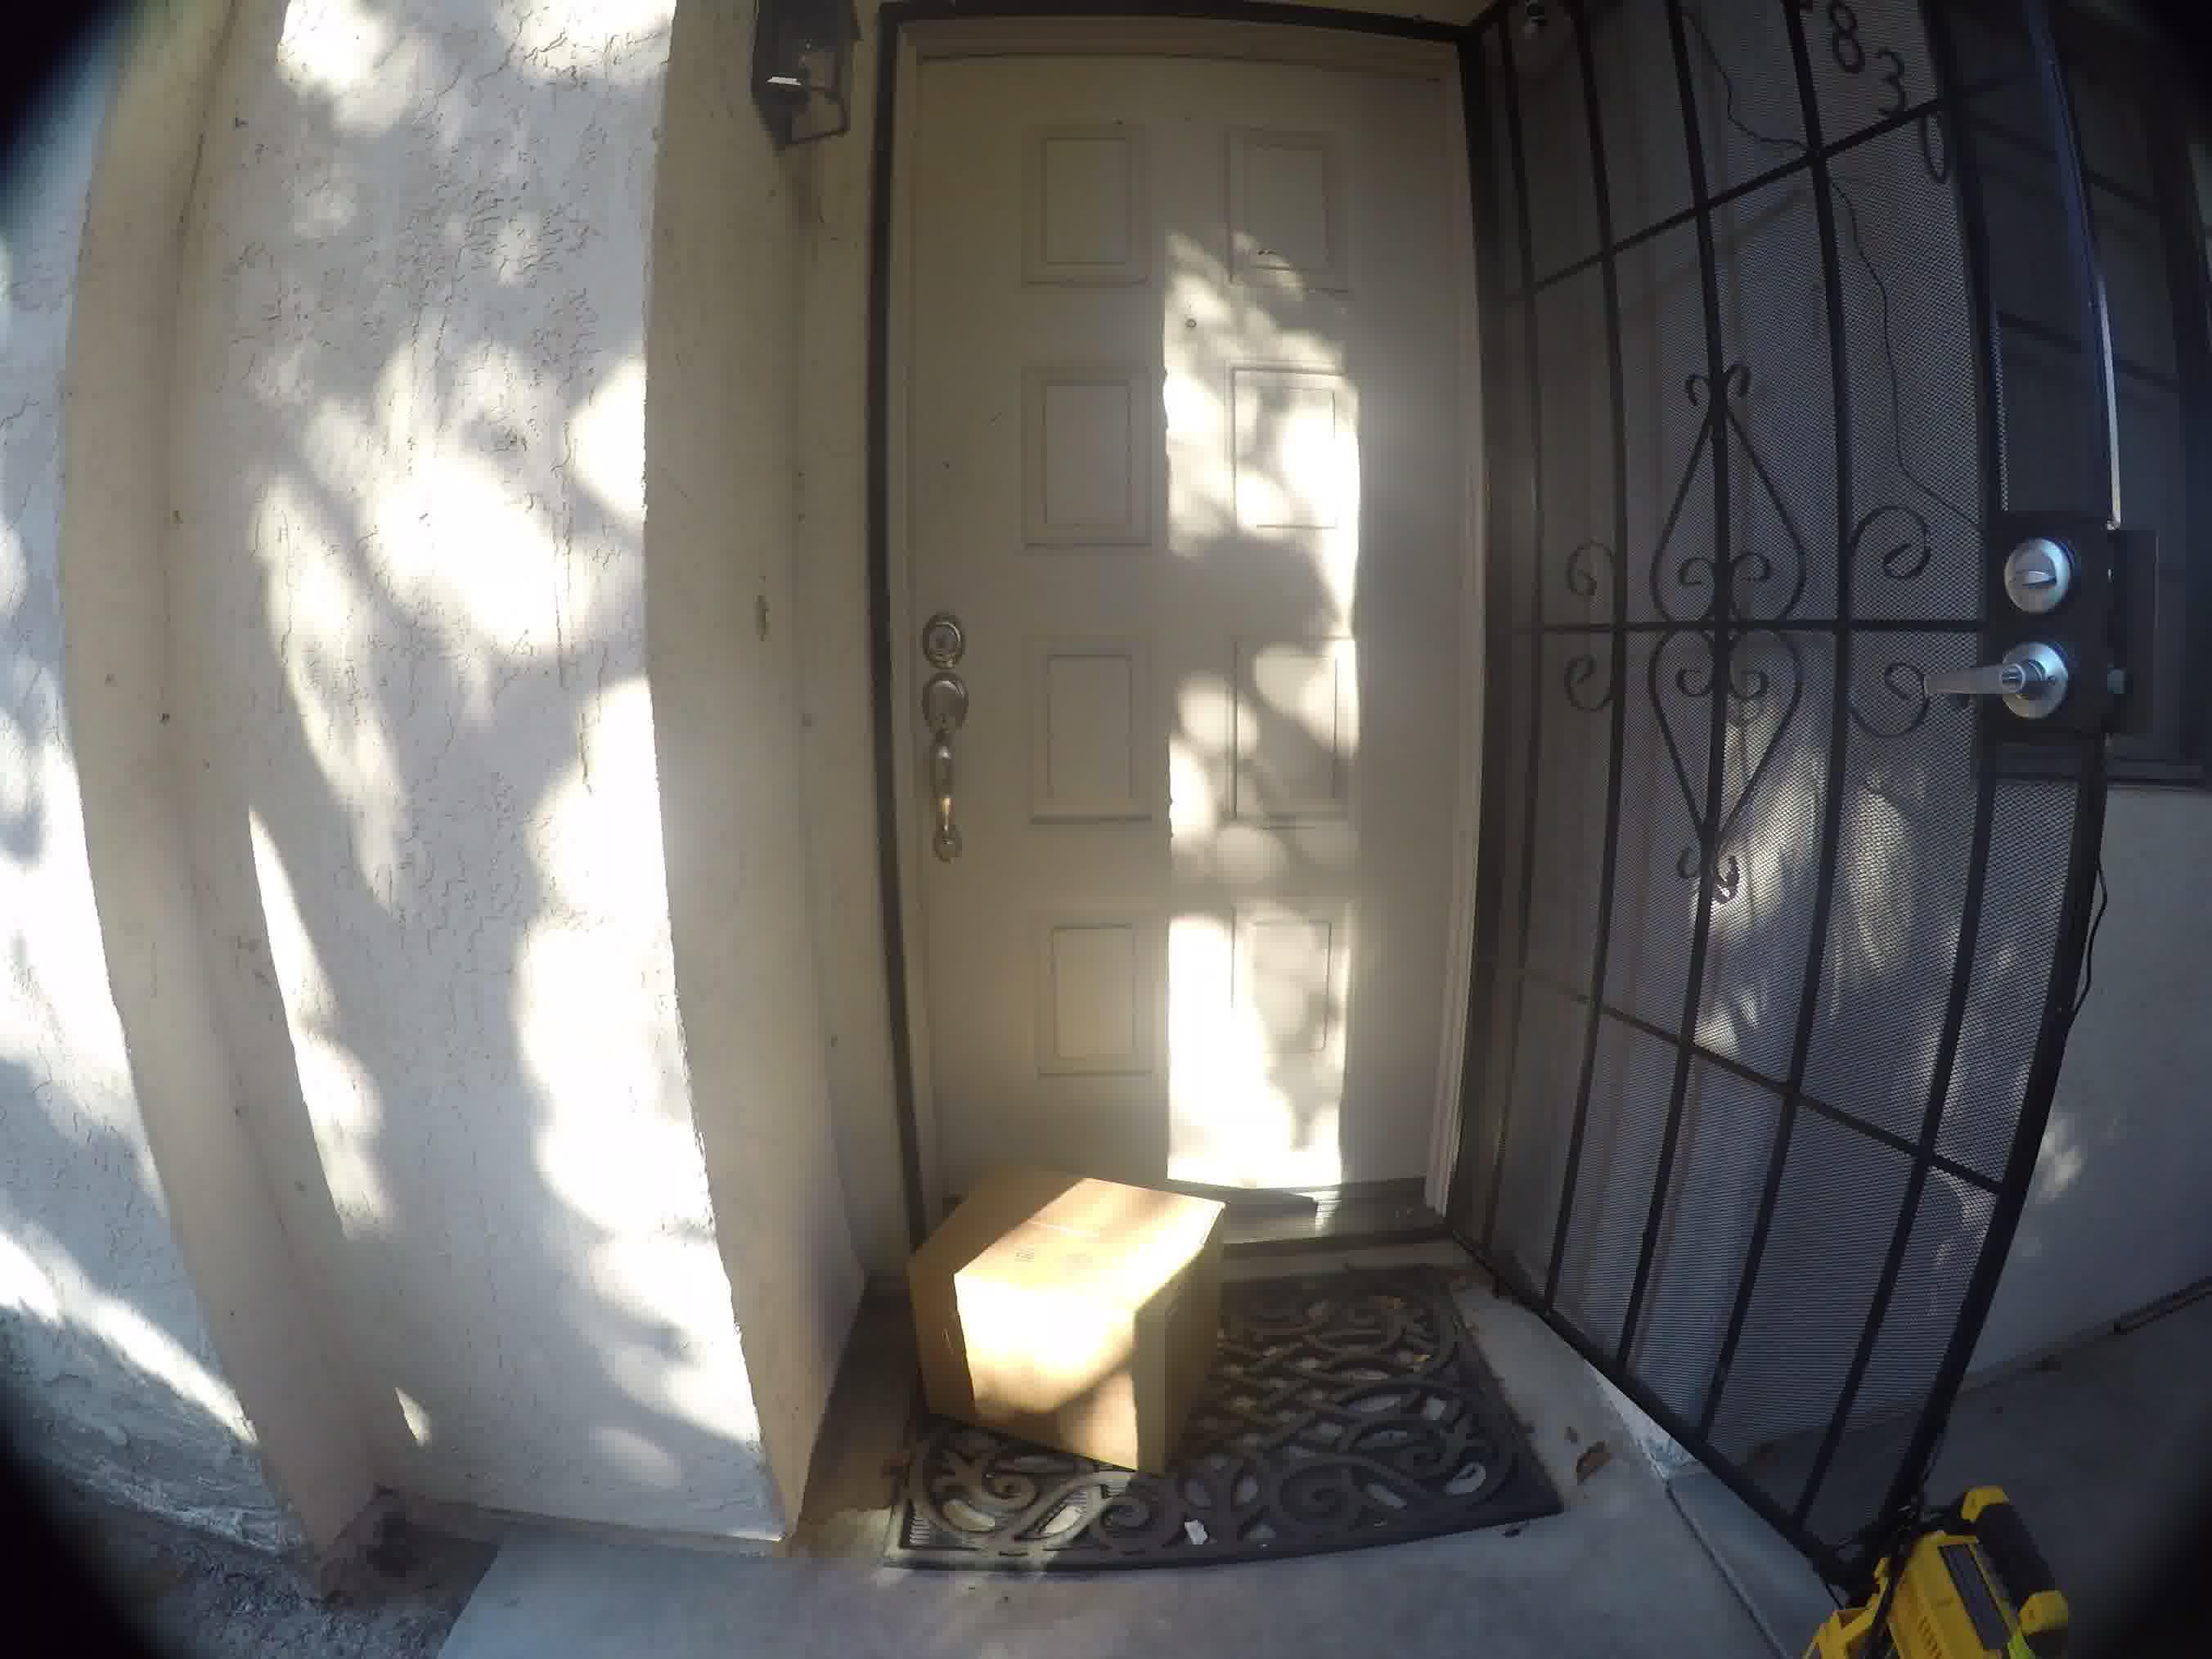box: (904, 1143, 1226, 1516)
